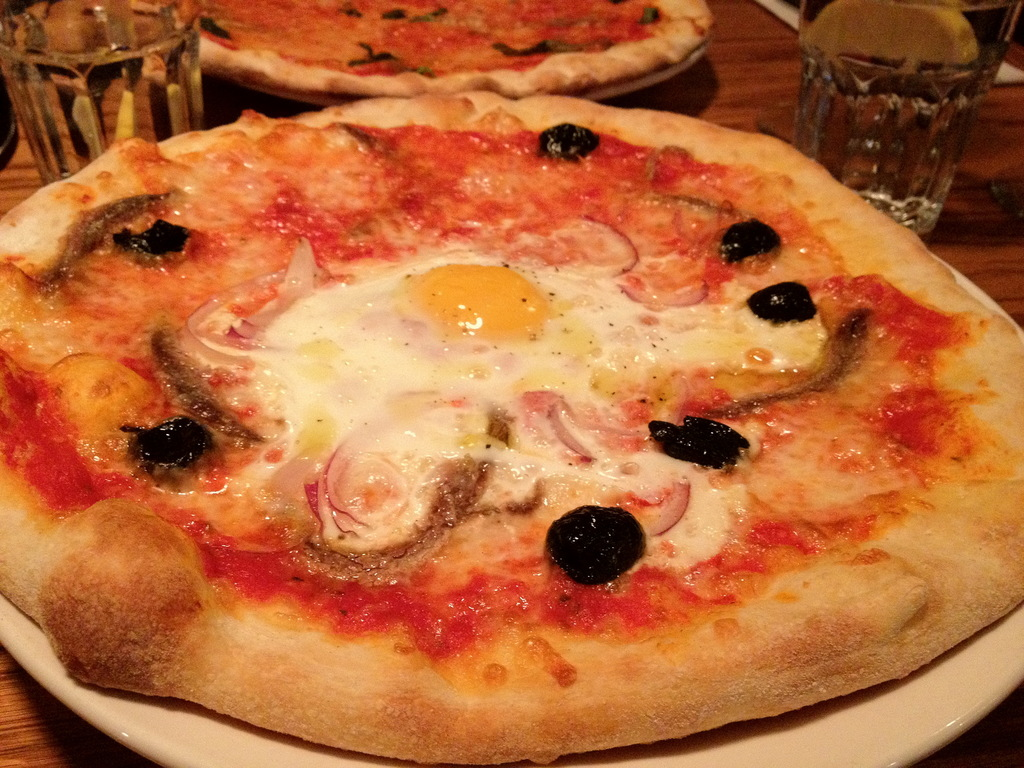Pizza: (0, 87, 1023, 767), (198, 0, 743, 98)
